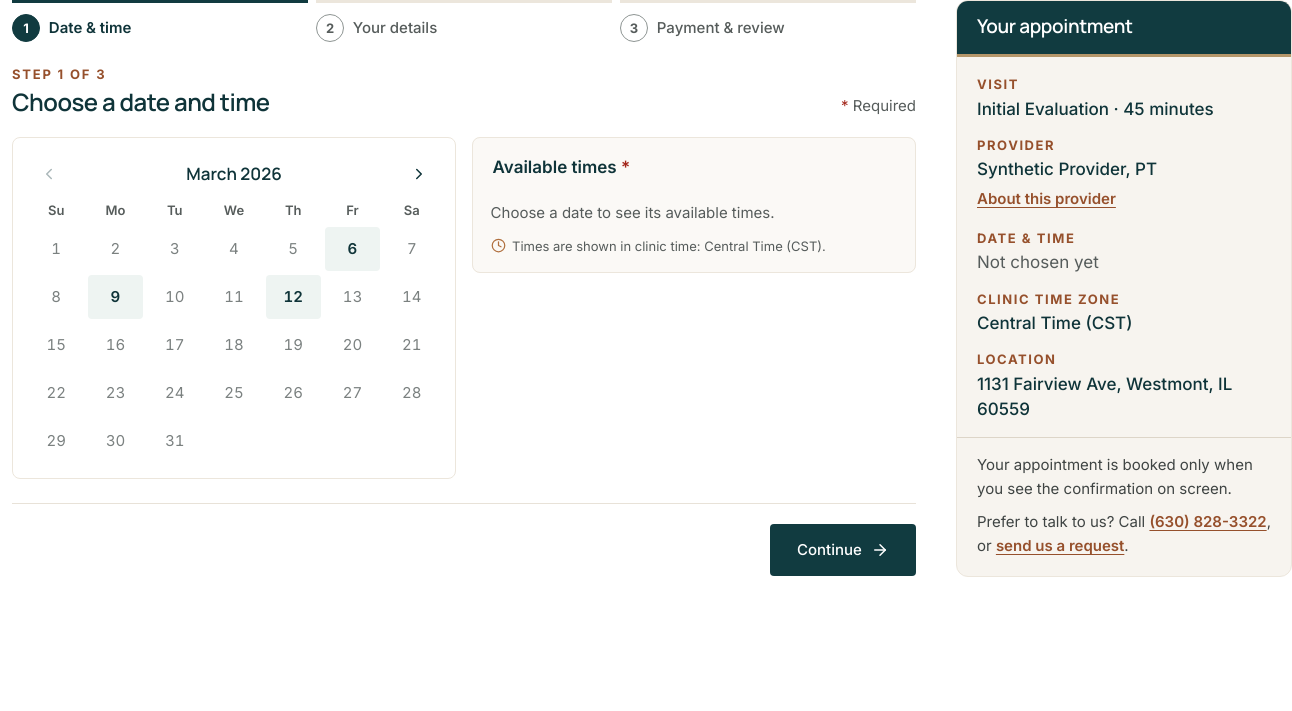
Test: SchedulingForm › validates each step before moving on, and sends nothing
Later steps or results of the test are not shown.
Expected: the button named "Friday, March 6, 2026" is shown, [325, 227, 380, 271]
Step 1. Click the button "Continue" → (843, 550), box [770, 524, 916, 576]
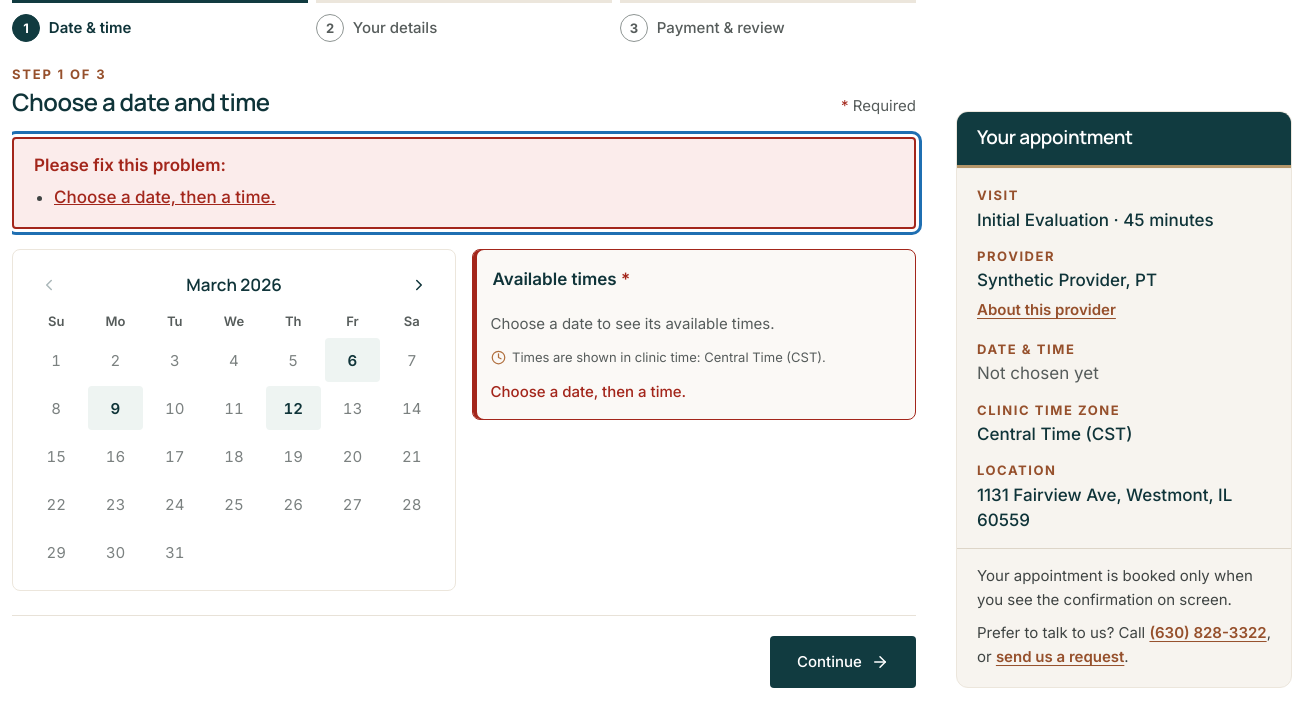
Expected: the message shows "Please fix this problem", [12, 137, 916, 229]
Expected: the message shows "Choose a date, then a time.", [54, 188, 276, 208]
Step 2. Click the button named "Monday, March 9, 2026, 2 times available" → (115, 408), box [88, 386, 143, 430]
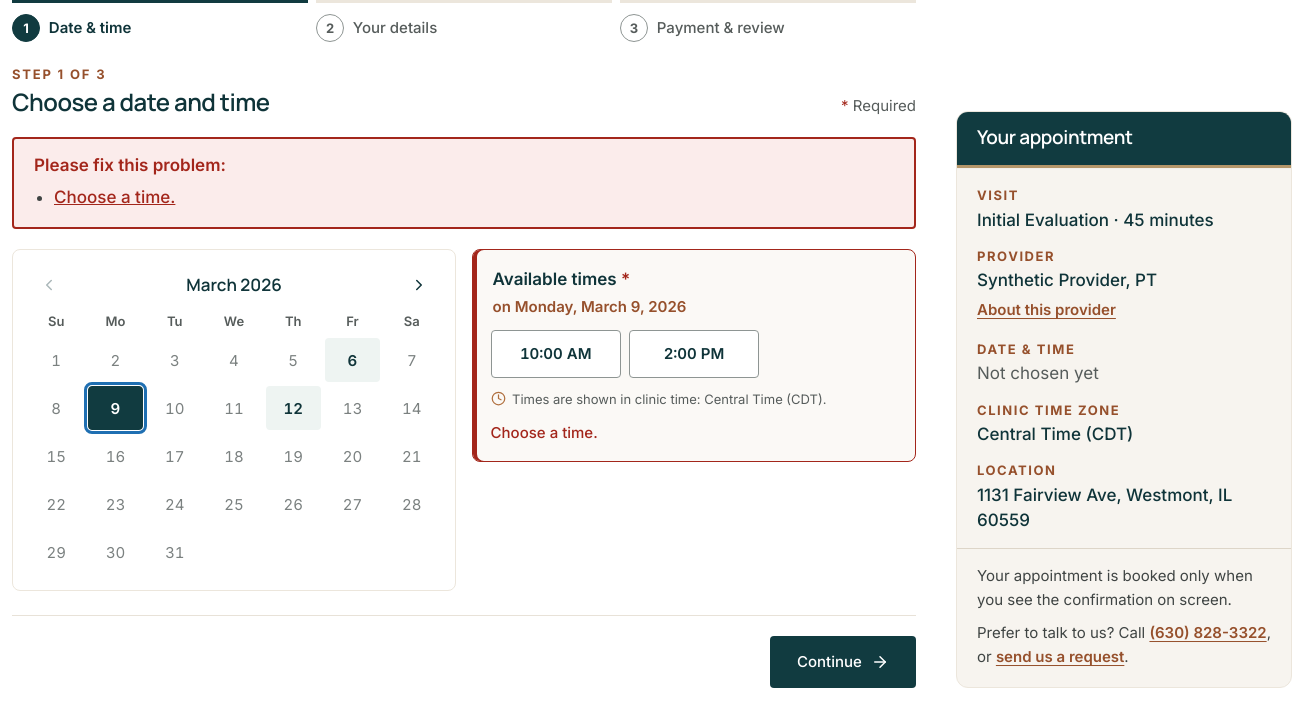
Step 3. Click the radio button labelled "10:00 AM" → (556, 354), box [491, 330, 621, 378]
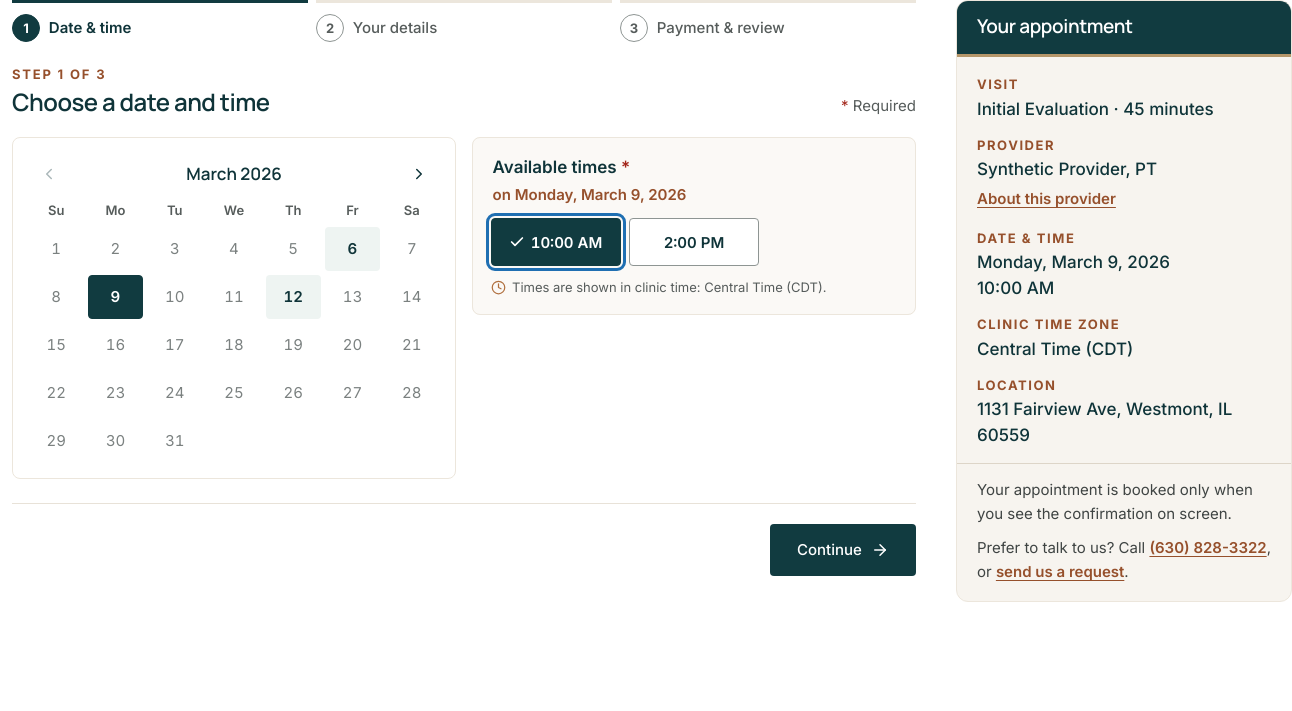
Expected: the link "Choose a date, then a time." is not shown
Step 4. Click the button "Continue" → (843, 550), box [770, 524, 916, 576]
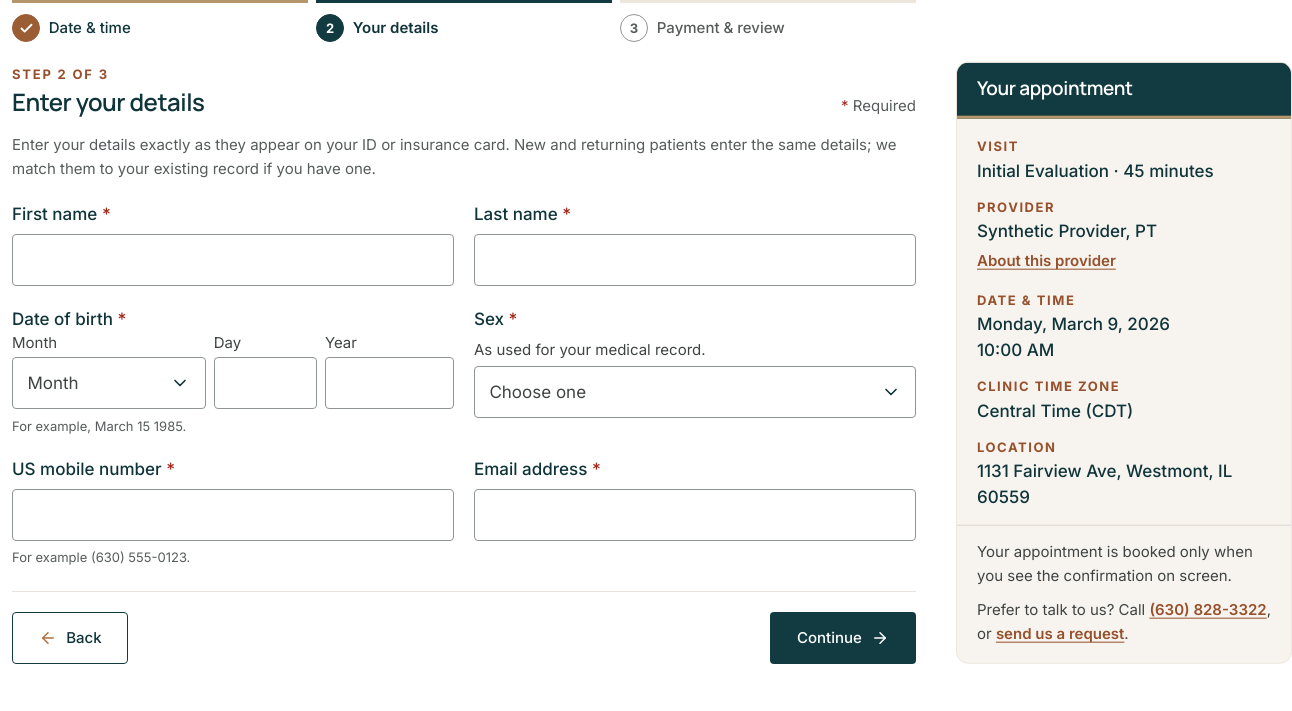
Step 5. Click the button "Continue" → (843, 638), box [770, 612, 916, 664]
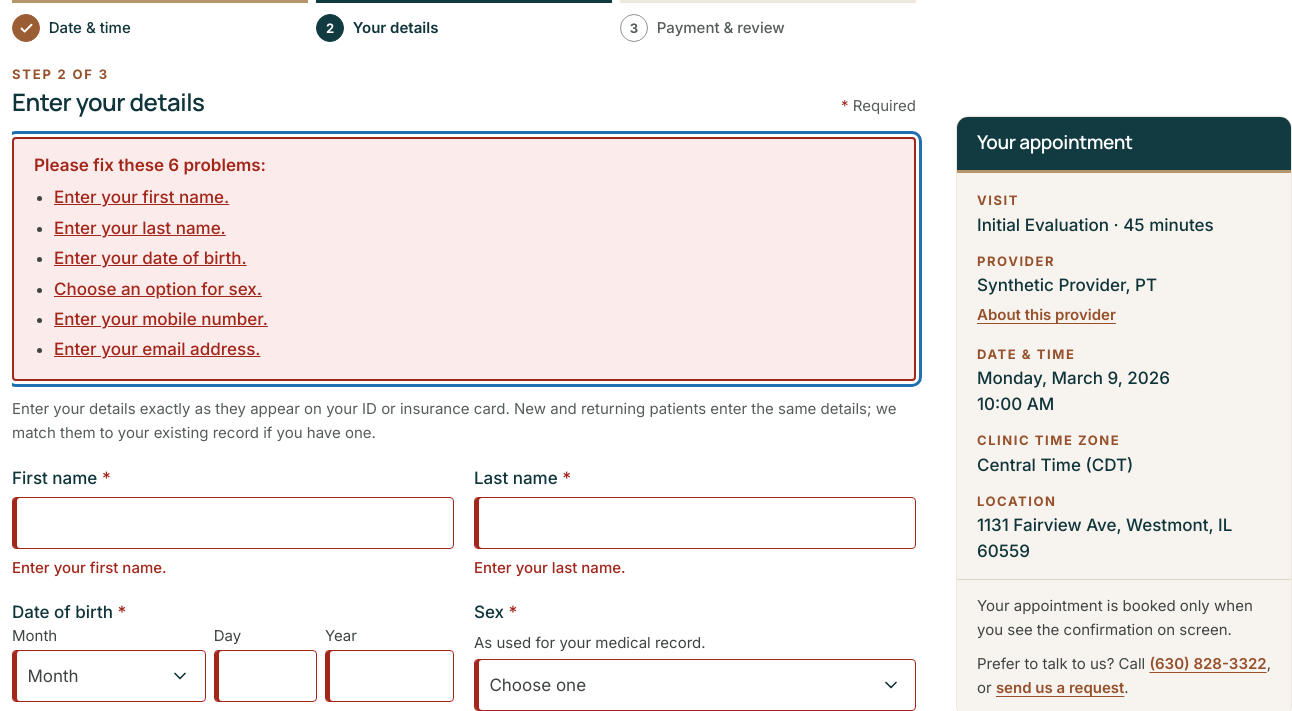
Expected: the message shows "Please fix these 6 problems", [12, 137, 916, 380]
